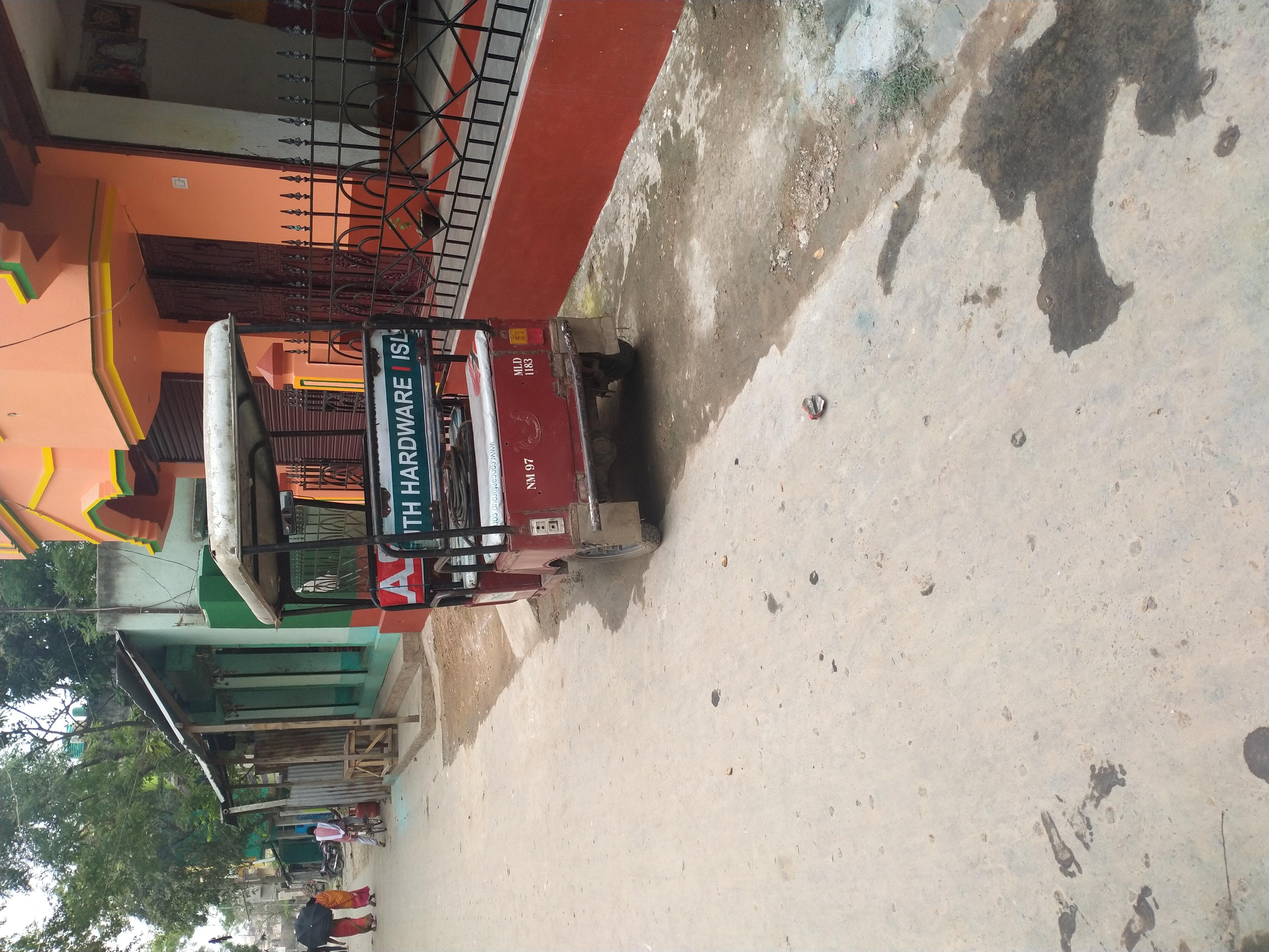Auto: (400, 148, 878, 508)
